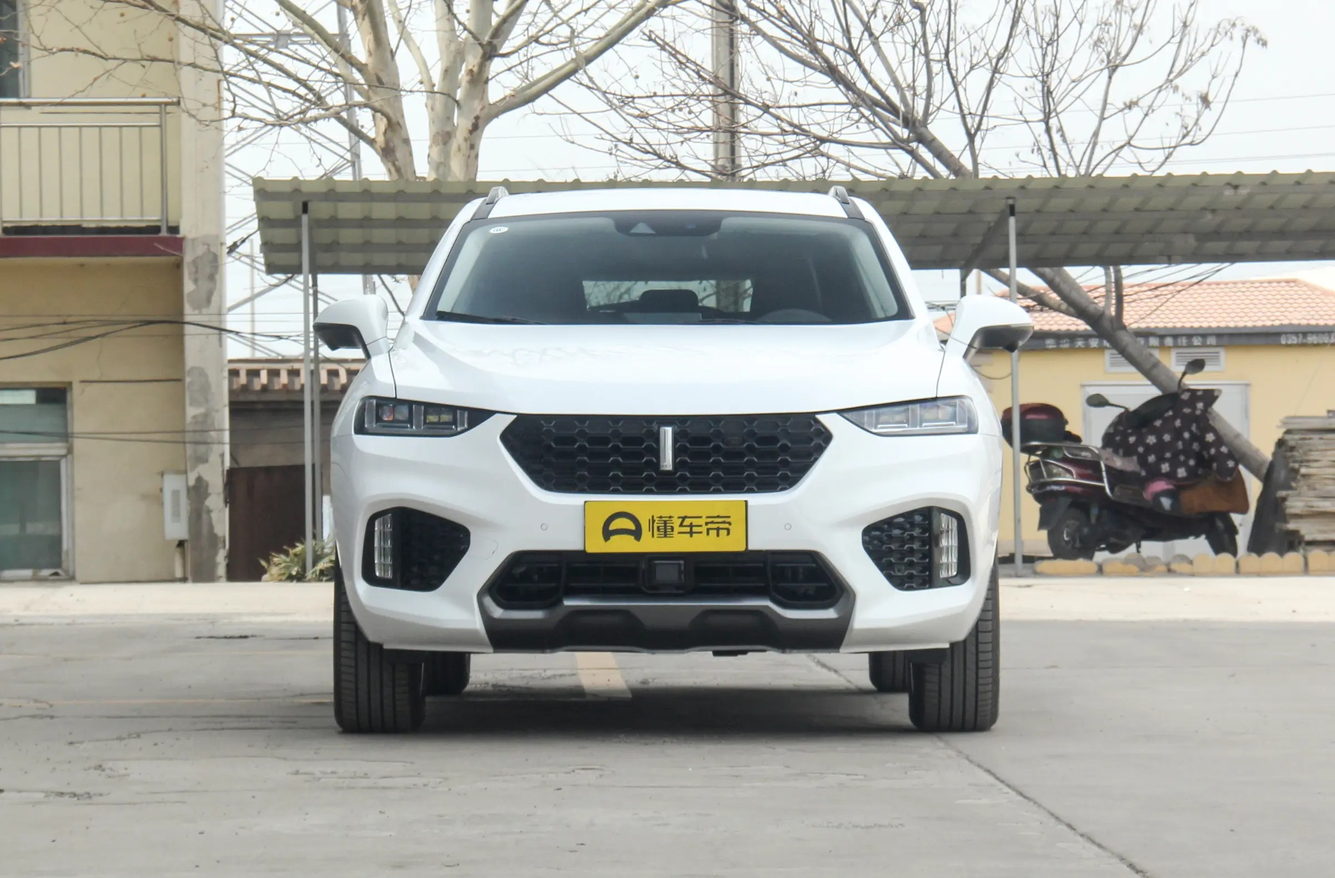WEY: (660, 427, 672, 470)
